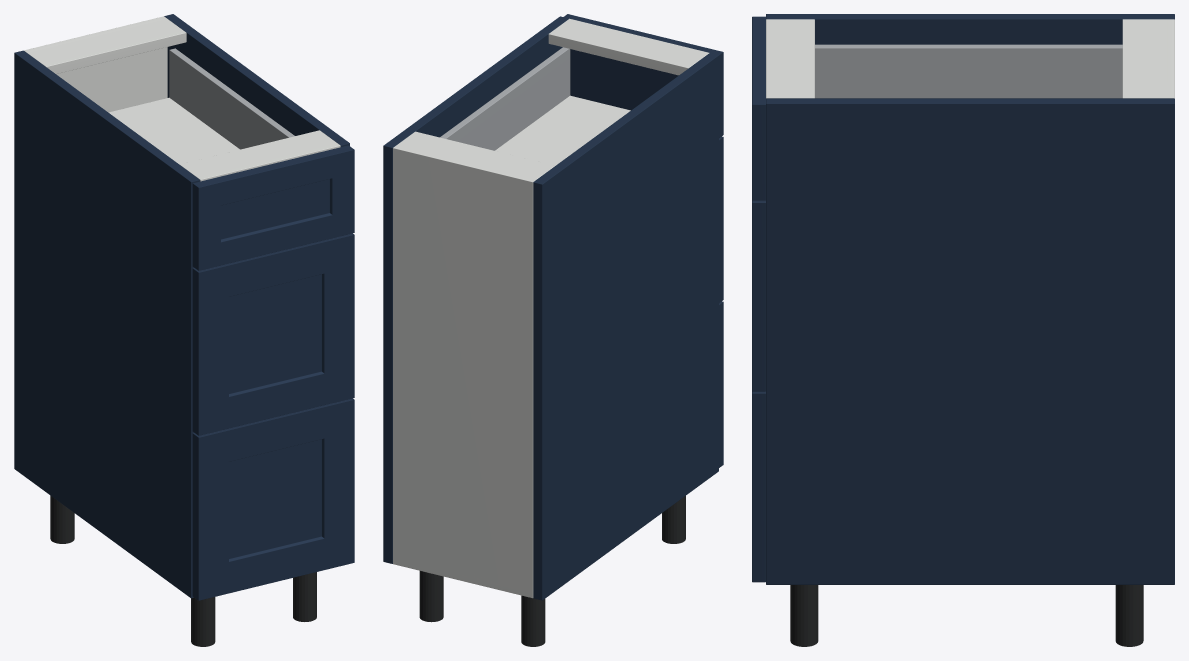
The model's file is oppein-pb-bss-3db12.glb.
3 views of the same model, side by side, from view 1: azimuth 30°, elevation 25°; view 2: azimuth 150°, elevation 25°; view 3: azimuth 270°, elevation 25° (orthographic). The views are drawn at different scales.
Parts seen in each view (by area): view 1: Cabinet side, Drawer front, Drawer front.001, Drawer front.002, Drawer side.005, Cabinet back, Cabinet side.001, Drawer floor.002, Top support rail, Top support rail.001, Adjustable foot.001, Adjustable foot.003 (+1 smaller); view 2: Cabinet side, Cabinet back, Cabinet side.001, Drawer side.005, Drawer front.002, Drawer floor.002, Top support rail.001, Top support rail, Adjustable foot, Adjustable foot.002, Adjustable foot.001, Drawer front (+2 smaller); view 3: Cabinet side.001, Drawer side.004, Cabinet side, Top support rail.001, Top support rail, Drawer front, Drawer front.001, Drawer front.002, Adjustable foot.002, Adjustable foot.003, Cabinet back.
Part boxes in pixels (left/top/right/bottom): Cabinet side: left=14, top=50, right=200, bottom=598; Drawer front: left=192, top=398, right=354, bottom=600; Drawer front.001: left=192, top=233, right=354, bottom=435; Drawer front.002: left=192, top=145, right=354, bottom=270; Drawer side.005: left=169, top=48, right=294, bottom=149; Cabinet back: left=24, top=16, right=167, bottom=112; Cabinet side.001: left=164, top=14, right=349, bottom=146; Drawer floor.002: left=108, top=97, right=239, bottom=164; Top support rail: left=25, top=18, right=186, bottom=73; Top support rail.001: left=179, top=130, right=340, bottom=181; Adjustable foot.001: left=191, top=597, right=215, bottom=646; Adjustable foot.003: left=293, top=572, right=316, bottom=621; Cabinet side: left=533, top=53, right=718, bottom=600; Cabinet back: left=393, top=145, right=535, bottom=598; Cabinet side.001: left=383, top=16, right=568, bottom=563; Drawer side.005: left=440, top=47, right=570, bottom=150; Drawer front.002: left=563, top=14, right=723, bottom=137; Drawer floor.002: left=495, top=95, right=630, bottom=165; Top support rail.001: left=548, top=18, right=709, bottom=75; Top support rail: left=396, top=131, right=554, bottom=179; Adjustable foot: left=521, top=595, right=545, bottom=646; Adjustable foot.002: left=419, top=571, right=443, bottom=622; Adjustable foot.001: left=662, top=496, right=685, bottom=543; Drawer front: left=719, top=301, right=723, bottom=467; Cabinet side.001: left=766, top=98, right=1174, bottom=584; Drawer side.004: left=815, top=44, right=1122, bottom=98; Cabinet side: left=766, top=14, right=1174, bottom=44; Top support rail.001: left=766, top=19, right=814, bottom=98; Top support rail: left=1122, top=19, right=1166, bottom=98; Drawer front: left=752, top=391, right=765, bottom=582; Drawer front.001: left=752, top=200, right=765, bottom=391; Drawer front.002: left=752, top=16, right=765, bottom=200; Adjustable foot.002: left=1115, top=585, right=1143, bottom=646; Adjustable foot.003: left=790, top=585, right=818, bottom=646; Cabinet back: left=1167, top=19, right=1174, bottom=98.
Size of the model in its own units: 0.3048 by 0.8763 by 0.6064.
